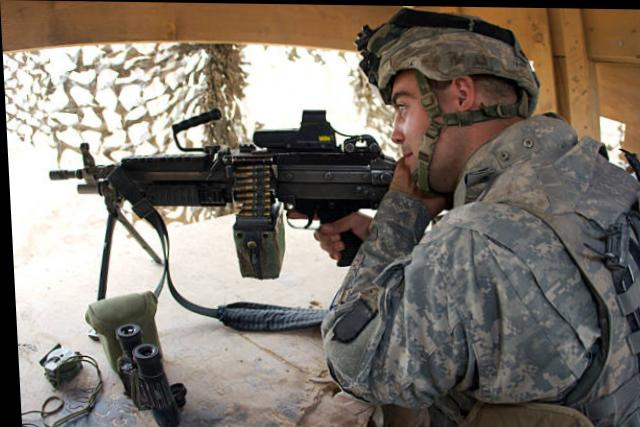other: (305, 11, 640, 426)
